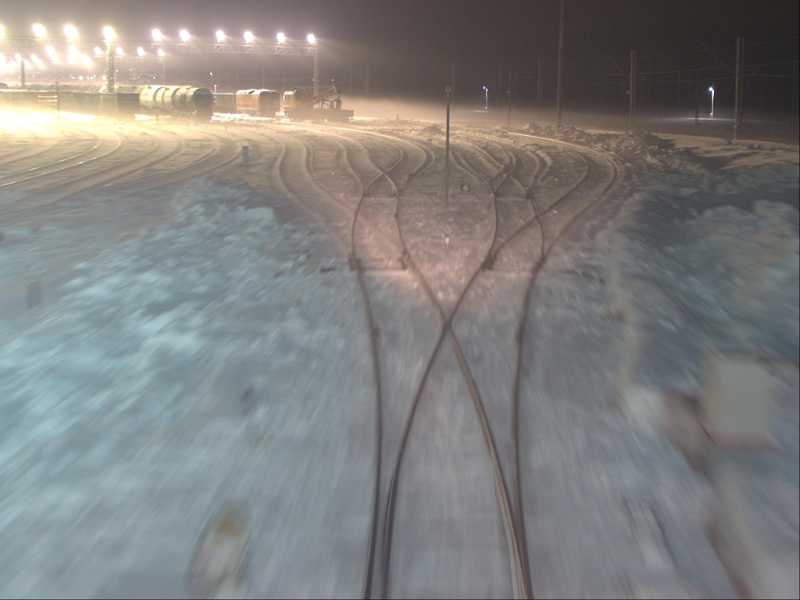left: (364, 529, 542, 598), (481, 244, 551, 271)
